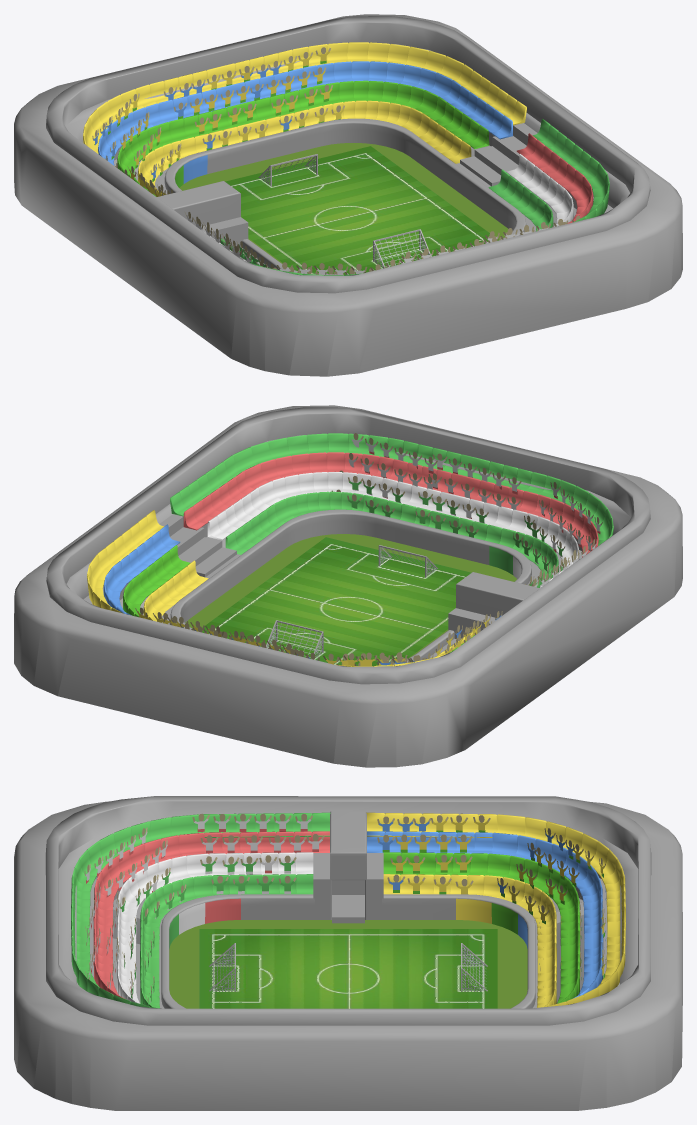
Rendered from Stadium_Football.glb.
The picture shows the model from 3 angles, top to bottom: view 1: azimuth 30°, elevation 25°; view 2: azimuth 150°, elevation 25°; view 3: azimuth 270°, elevation 25°; orthographic projection. The views are drawn at different scales.
Parts seen in each view (by area): view 1: Stadium, Gradas_2Model, Cancha_Floor, Character_Gradas47, Gradas_1Model, Porteria1; view 2: Stadium, Gradas_1Model, Cancha_Floor, Character_Gradas47, Gradas_2Model, Porteria2; view 3: Stadium, Gradas_2Model, Gradas_1Model, Cancha_Floor, Character_Gradas47, Porteria2, Porteria1.
Boxes of the visible parts, box(x1,y1,x2,y2) form: Stadium: box(14, 14, 682, 376); Gradas_2Model: box(83, 42, 526, 196); Cancha_Floor: box(225, 146, 498, 274); Character_Gradas47: box(92, 47, 580, 275); Gradas_1Model: box(203, 119, 609, 275); Porteria1: box(373, 229, 431, 268); Stadium: box(14, 405, 682, 767); Gradas_1Model: box(170, 433, 613, 587); Cancha_Floor: box(202, 537, 471, 666); Character_Gradas47: box(135, 433, 602, 666); Gradas_2Model: box(87, 510, 476, 666); Porteria2: box(266, 620, 323, 657); Stadium: box(14, 796, 682, 1110); Gradas_2Model: box(366, 812, 625, 1007); Gradas_1Model: box(71, 812, 330, 1008); Cancha_Floor: box(199, 929, 497, 1008); Character_Gradas47: box(84, 813, 605, 1004); Porteria2: box(461, 943, 487, 991); Porteria1: box(209, 943, 235, 991).
Size of the model in its own units: 6.08 by 1.05 by 7.22.
18 materials, 1 textured.
